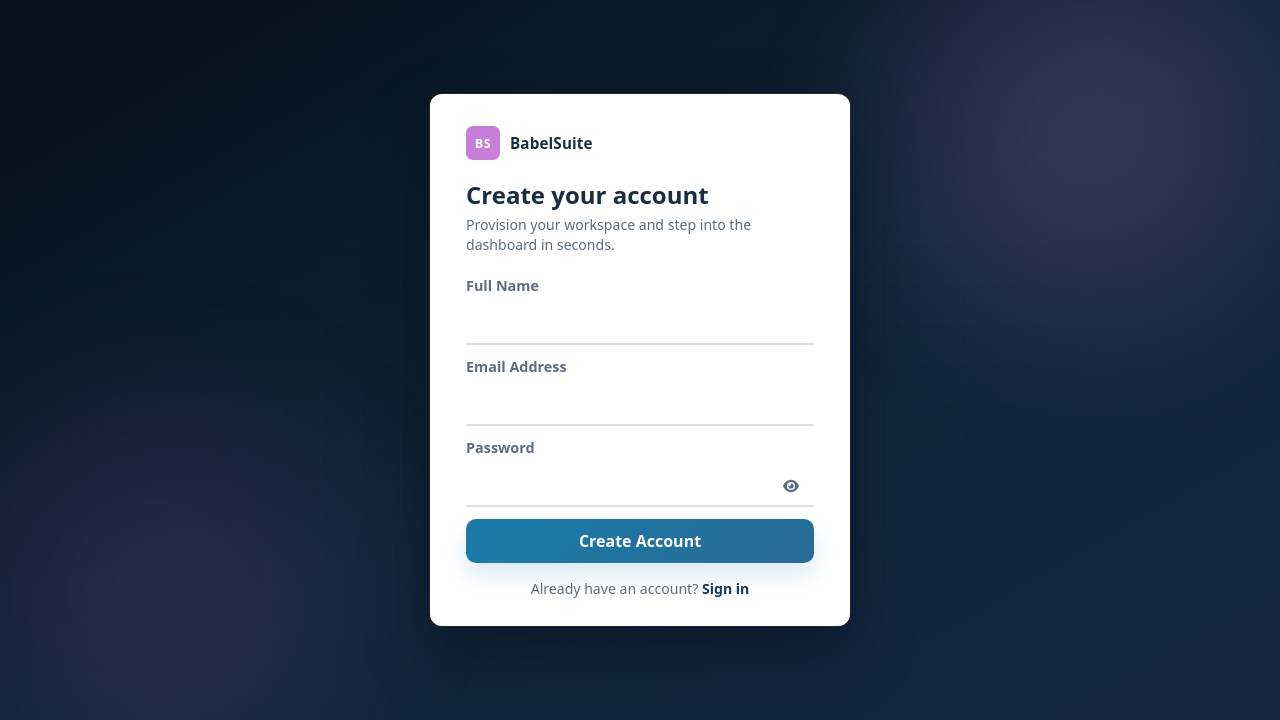
Scenario: SignUp › shows password strength label as user types
In the password field labelled "Password": (640, 486) [466,465,814,507], type "MyLongPassword1!"
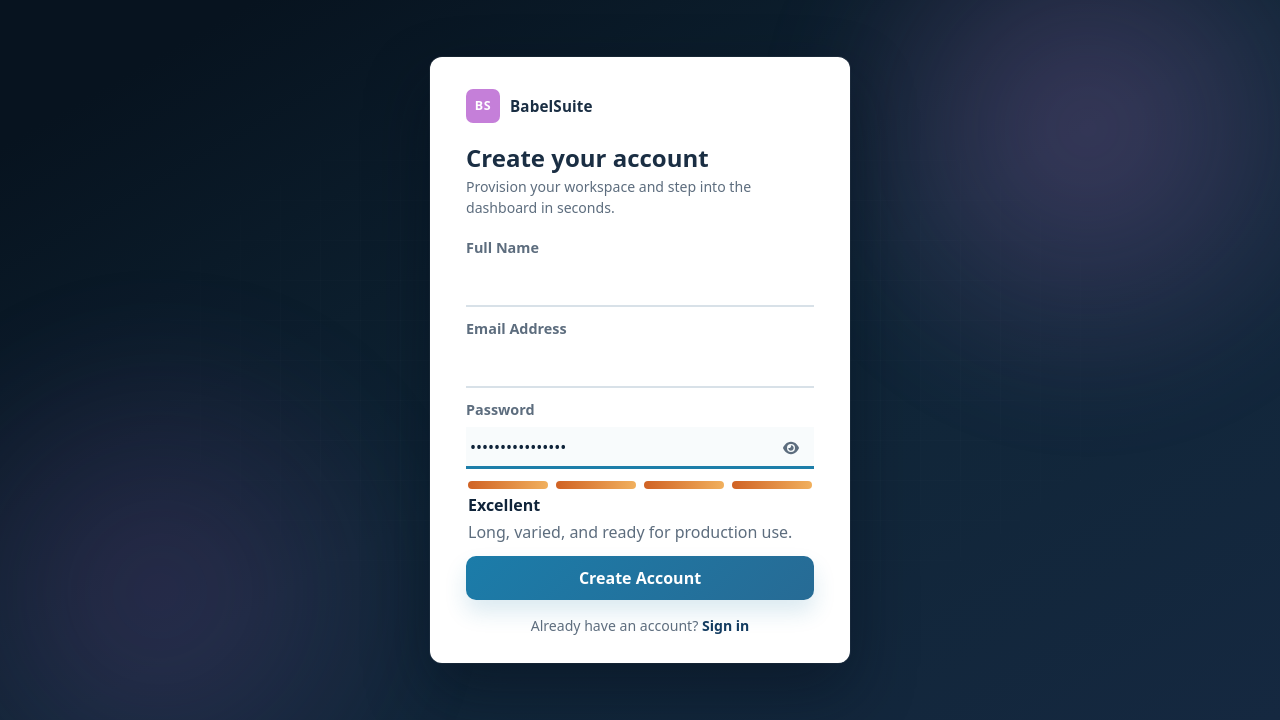
Now the text "Excellent" is shown, box [468,494,540,516]
